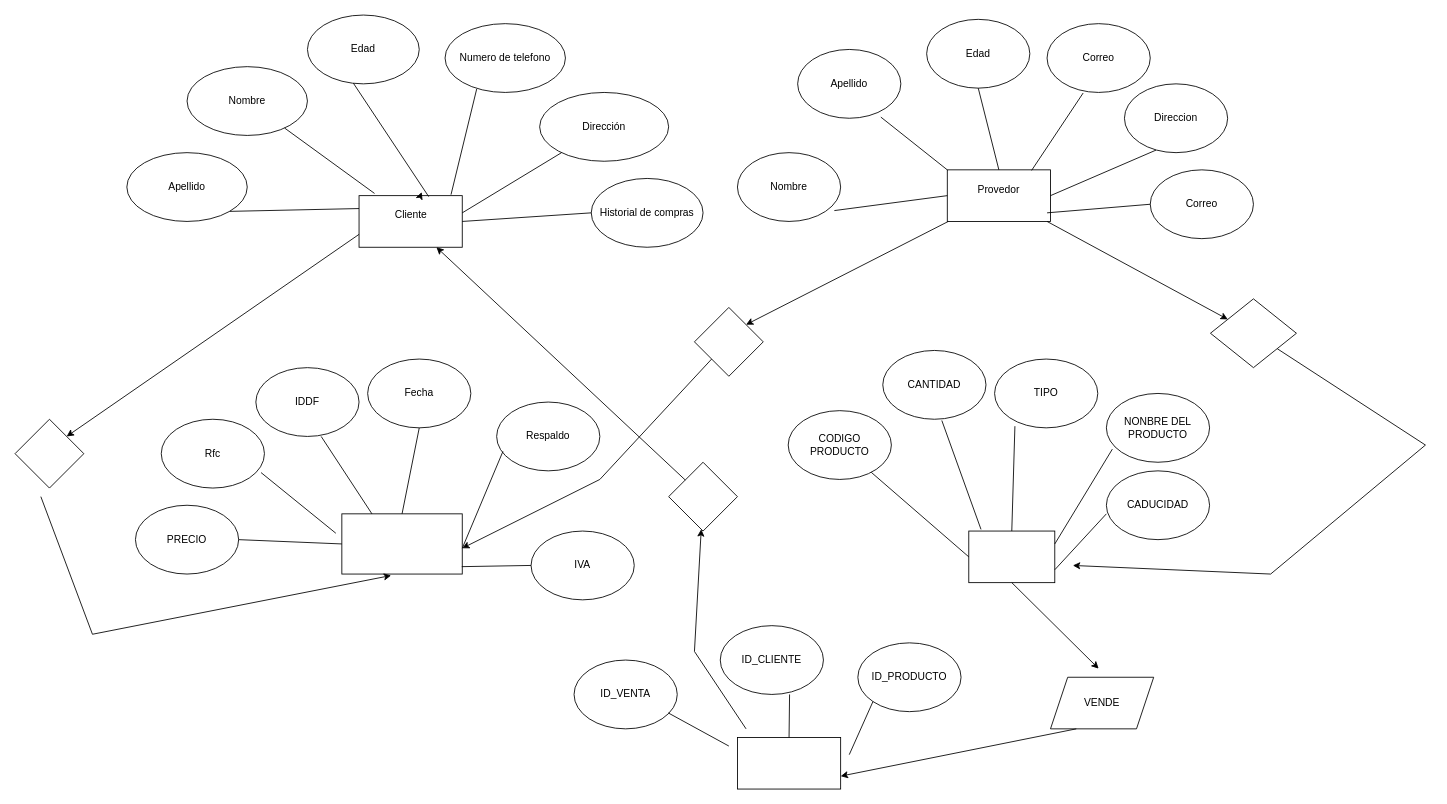
The diagram is 1447 pixels wide and 804 high, and some of its shapes have lost their labels. Each missing label, with the centre of its shape:
"ENTREGA" belongs at (728,341).
"Factura" belongs at (401,543).
"PRODUCTO" belongs at (1011,556).
"SE VENDE" belongs at (702,496).
"SOLICITA" belongs at (49,453).
"VENDE PRODUCTO" belongs at (1253,333).
"VENTA" belongs at (789,763).
